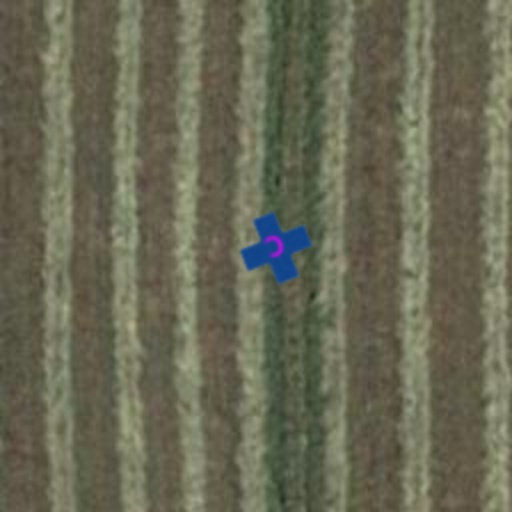cross: (230, 202, 322, 294)
